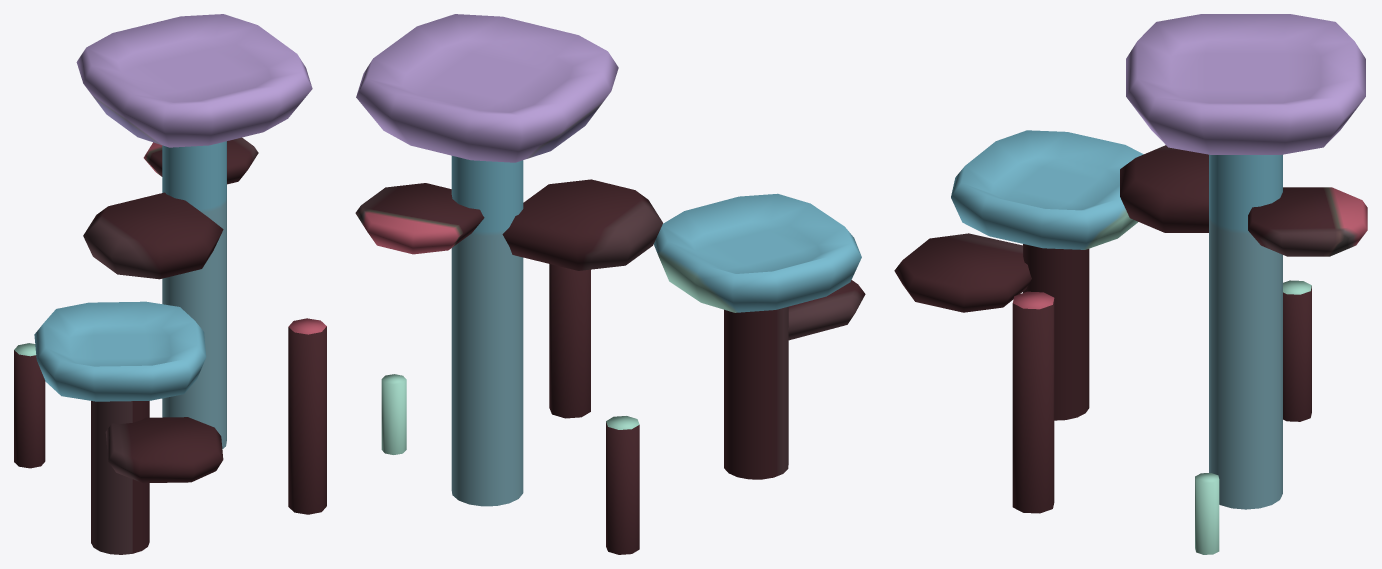
Rendered from SM_EN_Saplings.fbx.
The picture shows the model from 3 angles, left to right: view 1: azimuth 30°, elevation 25°; view 2: azimuth 150°, elevation 25°; view 3: azimuth 270°, elevation 25°; orthographic projection. The views are drawn at different scales.
Visible parts, largest first — view 1: SM_EN_Saplings_GAME; view 2: SM_EN_Saplings_GAME; view 3: SM_EN_Saplings_GAME.
Part boxes in pixels (x1=…): SM_EN_Saplings_GAME: x1=14, y1=14, x2=326, y2=554; SM_EN_Saplings_GAME: x1=355, y1=14, x2=865, y2=554; SM_EN_Saplings_GAME: x1=894, y1=14, x2=1367, y2=554.
Bounding box in the file's own units: 151 × 156 × 158.
